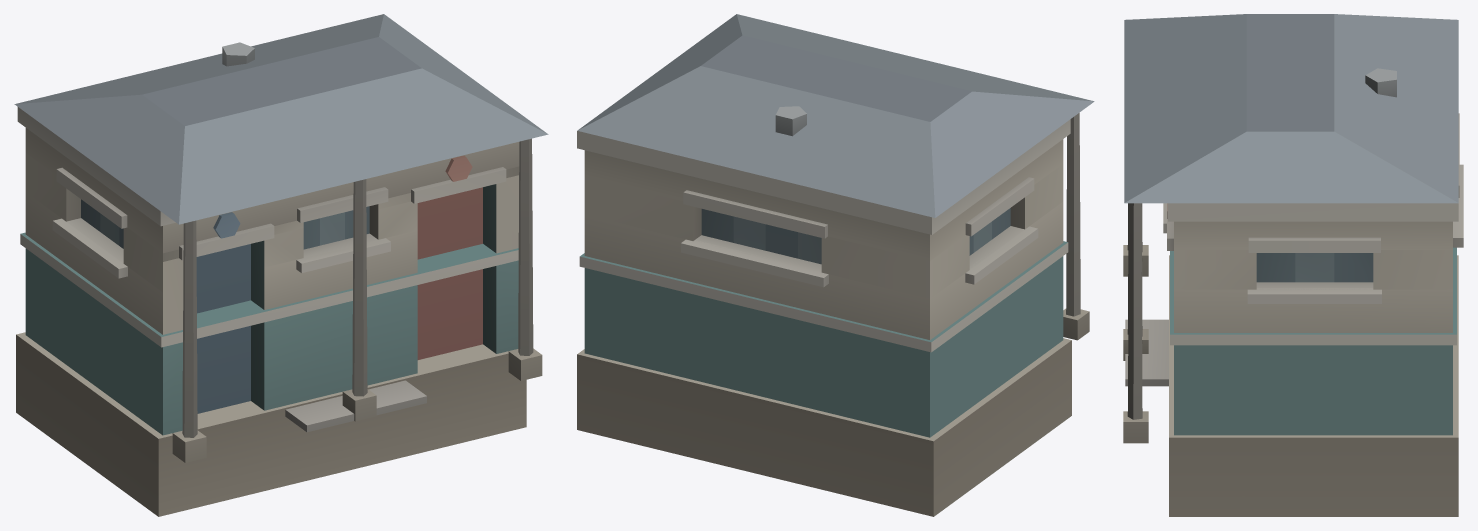
Rendered from toilets.lod1.glb.
3 views of the same model, side by side, from view 1: azimuth 30°, elevation 25°; view 2: azimuth 150°, elevation 25°; view 3: azimuth 270°, elevation 25° (orthographic). The views are drawn at different scales.
Bounding box in the file's own units: 4.52 × 4 × 3.5.
